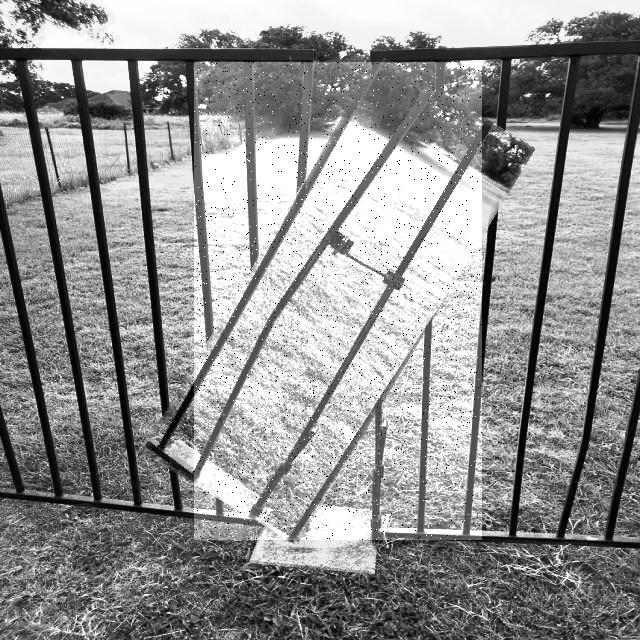anomaly-fence: (194, 62, 482, 540)
